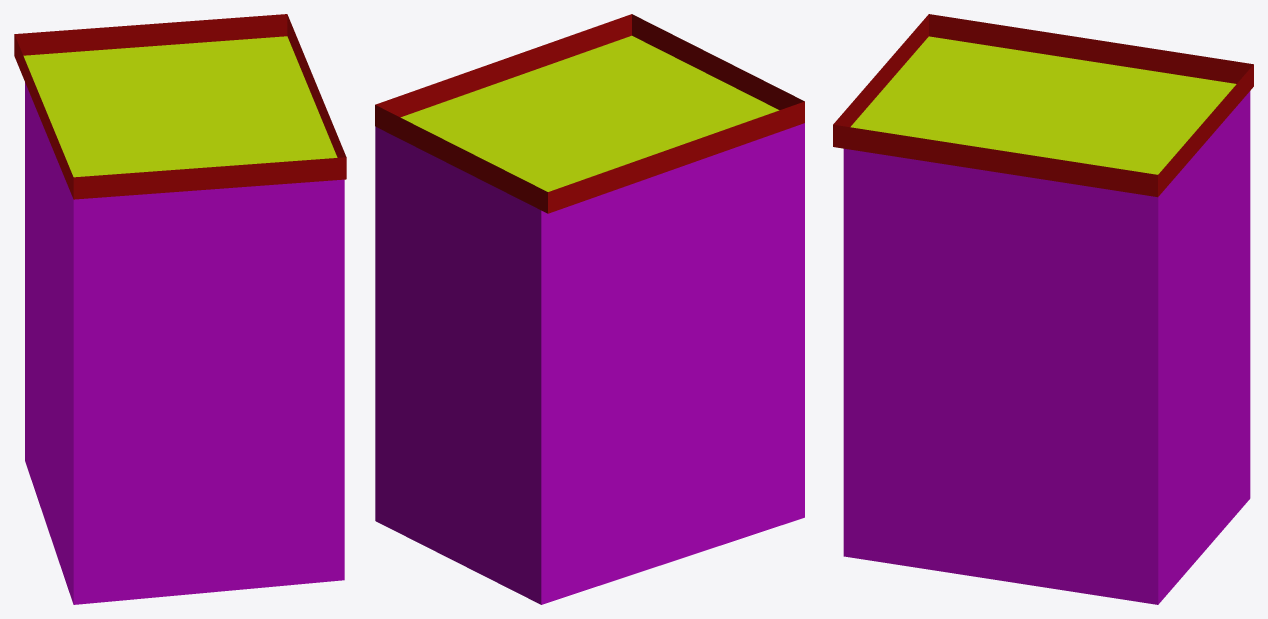
File: bgj_82.glb
The picture shows the model from 3 angles, left to right: view 1: azimuth 30°, elevation 25°; view 2: azimuth 150°, elevation 25°; view 3: azimuth 270°, elevation 25°; orthographic projection. The views are drawn at different scales.
Visible parts, largest first — view 1: bgj_82; view 2: bgj_82; view 3: bgj_82.
Boxes of the visible parts, <box> form: bgj_82: <box>14,14,346,604</box>; bgj_82: <box>375,14,804,604</box>; bgj_82: <box>833,14,1253,604</box>.
Size of the model in its own units: 5.39 by 6.73 by 5.96.
